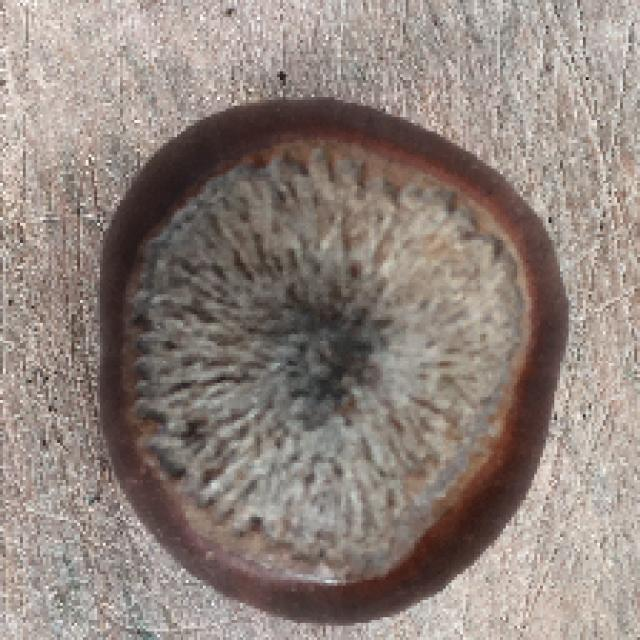DamagedHazelnut: (91, 93, 575, 626)
